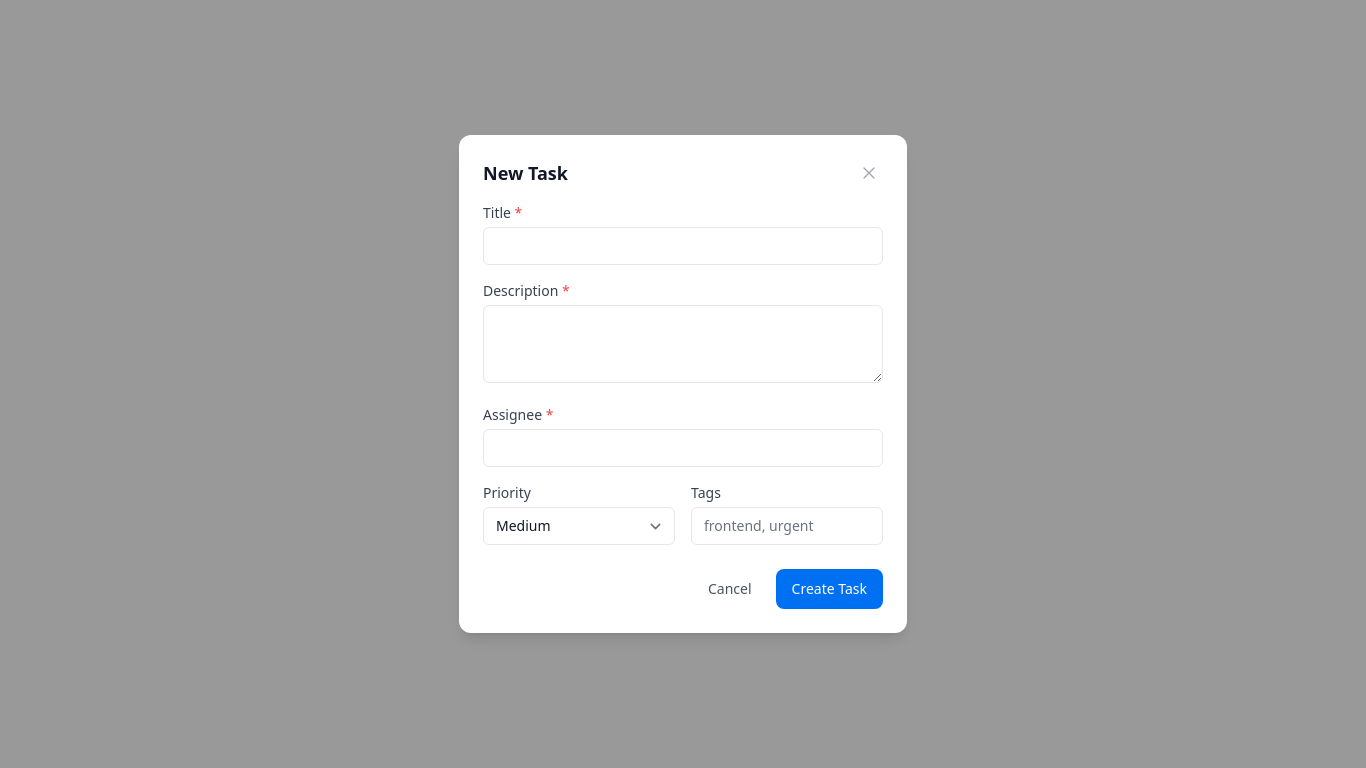
it: TaskFormModal › create mode › shows validation errors when required fields are missing
Click the button "Create Task": point(829, 589) x1=776 y1=569 x2=883 y2=609
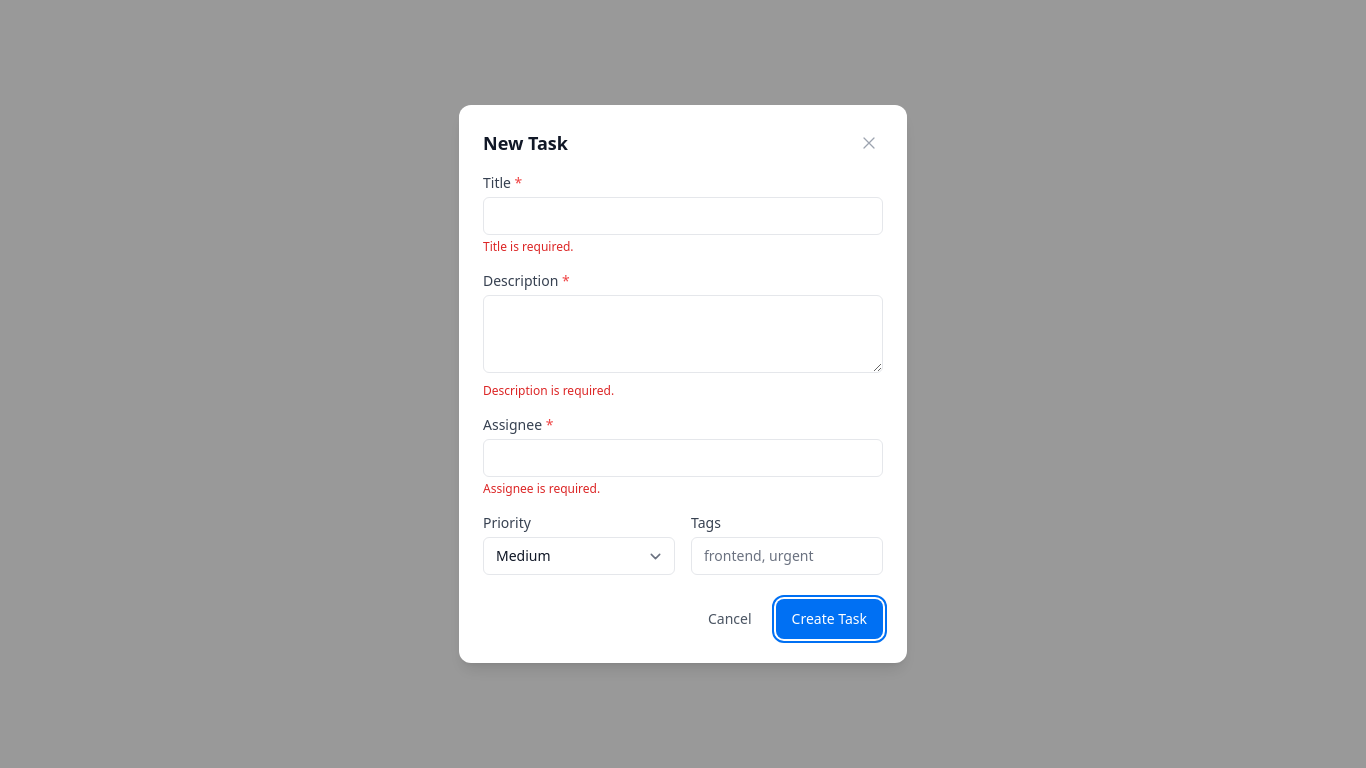
Now the text "Title is required." is shown, box x1=483 y1=238 x2=574 y2=255
Now the text "Description is required." is shown, box x1=483 y1=382 x2=614 y2=399
Now the text "Assignee is required." is shown, box x1=483 y1=480 x2=600 y2=497
